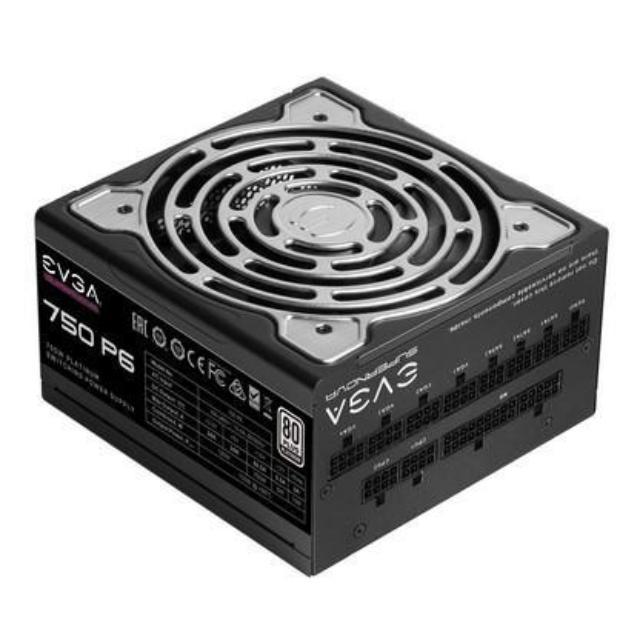PSU: (20, 63, 615, 588)
